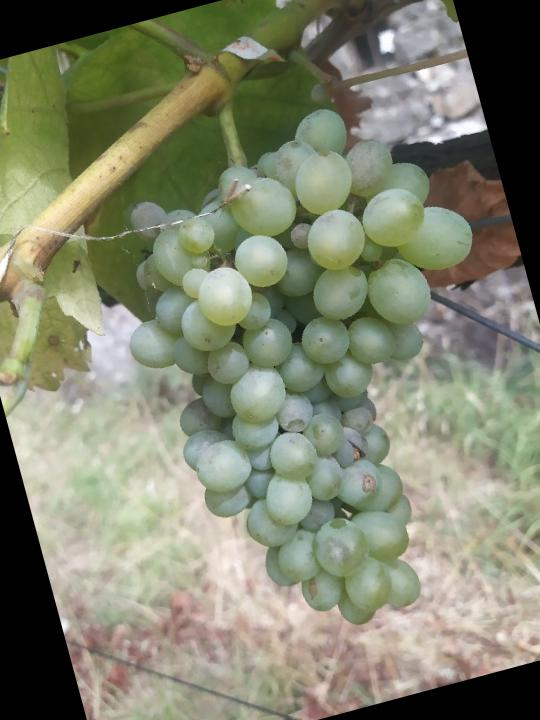grape: (85, 76, 540, 663)
